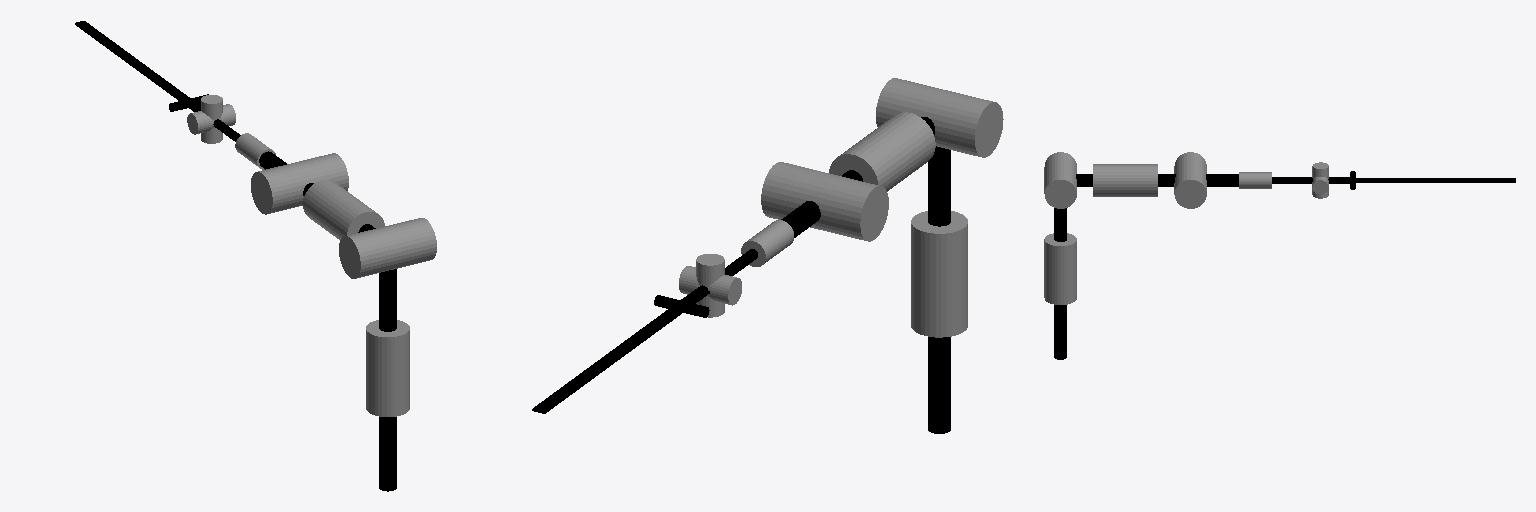
The robot description file, URDF, robot "FruitNinja":
<?xml version="1.0"?>

<robot name="FruitNinja">
  
  <!-- *************************************************** -->
  <!-- ******************** Kinematics ******************* -->
  <!-- *************************************************** -->

  <link name="world"/>

  <joint name="theta1" type="continuous">
    <parent link="world"/>
    <child  link="link1"/>
    <origin xyz="0 0 0.6" rpy="0 0 0"/>
    <axis   xyz="0 0 1"/>
    <dynamics damping="0.5"/>
  </joint>

  <link name="link1"/>

  <joint name="theta2" type="continuous">
    <parent link="link1"/>
    <child  link="link2"/>
    <origin xyz="0 0 0" rpy="0 0 0"/>
    <axis   xyz="1 0 0"/>
    <dynamics damping="1.0"/>
  </joint>

  <link name="link2"/>

  <joint name="attach-shoulder" type="fixed">
    <parent link="link2"/>
    <child  link="shoulder"/>
  </joint>

  <link name="shoulder"/>

  <joint name="theta3" type="continuous">
    <parent link="link2"/>
    <child  link="link3"/>
    <origin xyz="0 0.4 0" rpy="0 0 0"/>
    <axis   xyz="0 1 0 "/>
    <dynamics damping="0.05"/>
  </joint>

  <link name="link3"/>

  <joint name="theta4" type="continuous">
    <parent link="link3"/>
    <child  link="link4"/>
    <origin xyz="0 0 0" rpy="0 0 0"/>
    <axis   xyz="1 0 0 "/>
    <dynamics damping="0.1"/>
  </joint>

  <link name="link4"/>

  <joint name="attach-elbow" type="fixed">
    <parent link="link4"/>
    <child  link="elbow"/>
  </joint>

  <link name="elbow"/>

  <joint name="theta5" type="continuous">
    <parent link="link4"/>
    <child  link="link5"/>
    <origin xyz="0 0.4 0" rpy="0 0 0"/>
    <axis   xyz="0 1 0"/>
    <dynamics damping="0.02"/>
  </joint>

  <link name="link5"/>

  <joint name="theta6" type="continuous">
    <parent link="link5"/>
    <child  link="link6"/>
    <origin xyz="0 0 0" rpy="0 0 0"/>
    <axis   xyz="0 0 1"/>
    <dynamics damping="0.02"/>
  </joint>

  <link name="link6"/>

  <joint name="theta7" type="continuous">
    <parent link="link6"/>
    <child  link="link7"/>
    <origin xyz="0 0 0" rpy="0 0 0"/>
    <axis   xyz="1 0 0"/>
    <dynamics damping="0.02"/>
  </joint>

  <link name="link7"/>

  <joint name="attach-wrist" type="fixed">
    <parent link="link7"/>
    <child  link="wrist"/>
  </joint>

  <link name="wrist"/>

  <joint name="final" type="fixed">
    <parent link="link7"/>
    <child  link="tip"/>
    <origin xyz="0 0.3 0" rpy="0 0 0"/>
  </joint>

  <link name="tip"/>


  <!-- *************************************************** -->
  <!-- ******************* RVIZ Colors ******************* -->
  <!-- *************************************************** -->

  <material name="white">    <color rgba="1.00 1.00 1.00 1"/>  </material>
  <material name="gray">     <color rgba="0.60 0.60 0.60 1"/>  </material>
  <material name="table">    <color rgba="0.85 0.77 0.77 1"/>  </material>
  <material name="black">    <color rgba="0.00 0.00 0.00 1"/>  </material>

  <material name="red">      <color rgba="1.00 0.00 0.00 1"/>  </material>
  <material name="green">    <color rgba="0.00 1.00 0.00 1"/>  </material>
  <material name="blue">     <color rgba="0.00 0.00 1.00 1"/>  </material>

  <material name="cyan">     <color rgba="0.00 1.00 1.00 1"/>  </material>
  <material name="magenta">  <color rgba="1.00 0.00 1.00 1"/>  </material>
  <material name="yellow">   <color rgba="1.00 1.00 0.00 1"/>  </material>

  <material name="orange">   <color rgba="1.00 0.65 0.00 1"/>  </material>


  <!-- *************************************************** -->
  <!-- ****** Building Blocks (Visual AND Inertial) ****** -->
  <!-- *************************************************** -->

  <!-- *** World-Fixed: Mount 1, Motor 1 *** -->

  <joint name="attach-mount1" type="fixed">
    <parent link="world"/>
    <child  link="mount1"/>
  </joint>
  <link name="mount1">
    <visual>
      <origin xyz="0 0 0.1" rpy="0 0 0"/>
      <geometry>
	<cylinder length="0.2" radius="0.02"/>
      </geometry>
      <material name="black"/>
    </visual>
    <inertial>
      <origin xyz="0 0 0.1" rpy="0 0 0"/>
      <mass value="0.2"/>
      <inertia
        ixx="0.000687" ixy="0.0" ixz="0.0"
        iyy="0.000687" iyz="0.0"
        izz="0.000040"/>
    </inertial>
  </link>

  <joint name="attach-motor1" type="fixed">
    <parent link="world"/>
    <child  link="motor1"/>
  </joint>
  <link name="motor1">
    <visual>
      <origin xyz="0 0 0.3" rpy="0 0 0"/>
      <geometry>
	<cylinder length="0.2" radius="0.05"/>
      </geometry>
      <material name="gray"/>
    </visual>
    <inertial>
      <origin xyz="0 0 0.3" rpy="0 0 0"/>
      <mass value="2.0"/>
      <inertia
        ixx="0.007917" ixy="0.0" ixz="0.0"
        iyy="0.007917" iyz="0.0"
        izz="0.002500"/>
    </inertial>
  </link>

  <!-- *** Motor 1 Output: Mount 2, Motor 2 *** -->

  <joint name="attach-mount2" type="fixed">
    <parent link="link1"/>
    <child  link="mount2"/>
  </joint>
  <link name="mount2">
    <visual>
      <origin xyz="0 0 -0.1" rpy="0 0 0"/>
      <geometry>
	<cylinder length="0.2" radius="0.02"/>
      </geometry>
      <material name="black"/>
    </visual>
    <inertial>
      <origin xyz="0 0 -0.1" rpy="0 0 0"/>
      <mass value="0.2"/>
      <inertia
        ixx="0.000687" ixy="0.0" ixz="0.0"
        iyy="0.000687" iyz="0.0"
        izz="0.000040"/>
    </inertial>
  </link>

  <joint name="attach-motor2" type="fixed">
    <parent link="link1"/>
    <child  link="motor2"/>
  </joint>
  <link name="motor2">
    <visual>
      <origin xyz="0 0 0" rpy="0 1.5708 0"/>
      <geometry>
	<cylinder length="0.2" radius="0.05"/>
      </geometry>
      <material name="gray"/>
    </visual>
    <inertial>
      <origin xyz="0 0 0" rpy="0 1.5708 0"/>
      <mass value="2.0"/>
      <inertia
        ixx="0.007917" ixy="0.0" ixz="0.0"
        iyy="0.007917" iyz="0.0"
        izz="0.002500"/>
    </inertial>
  </link>

  <!-- *** Motor 2 Output: Mount 3, Motor 3 *** -->

  <joint name="attach-mount3" type="fixed">
    <parent link="link2"/>
    <child  link="mount3"/>
  </joint>
  <link name="mount3">
    <visual>
      <origin xyz="0 0.1 0" rpy="1.5708 0 0"/>
      <geometry>
	<cylinder length="0.2" radius="0.02"/>
      </geometry>
      <material name="black"/>
    </visual>
    <inertial>
      <origin xyz="0 0.1 0" rpy="1.5708 0 0"/>
      <mass value="0.2"/>
      <inertia
        ixx="0.000687" ixy="0.0" ixz="0.0"
        iyy="0.000687" iyz="0.0"
        izz="0.000040"/>
    </inertial>
  </link>

  <joint name="attach-motor3" type="fixed">
    <parent link="link2"/>
    <child  link="motor3"/>
  </joint>
  <link name="motor3">
    <visual>
      <origin xyz="0 0.2 0" rpy="1.5708 0 0"/>
      <geometry>
	<cylinder length="0.2" radius="0.05"/>
      </geometry>
      <material name="gray"/>
    </visual>
    <inertial>
      <origin xyz="0 0.2 0" rpy="1.5708 0 0"/>
      <mass value="2.0"/>
      <inertia
        ixx="0.007917" ixy="0.0" ixz="0.0"
        iyy="0.007917" iyz="0.0"
        izz="0.002500"/>
    </inertial>
  </link>

  <!-- *** Motor 3 Output: Mount 4, Motor 4 *** -->

  <joint name="attach-mount4" type="fixed">
    <parent link="link3"/>
    <child  link="mount4"/>
  </joint>
  <link name="mount4">
    <visual>
      <origin xyz="0 -0.1 0" rpy="1.5708 0 0"/>
      <geometry>
	<cylinder length="0.2" radius="0.02"/>
      </geometry>
      <material name="black"/>
    </visual>
    <inertial>
      <origin xyz="0 -0.1 0" rpy="1.5708 0 0"/>
      <mass value="0.2"/>
      <inertia
        ixx="0.000687" ixy="0.0" ixz="0.0"
        iyy="0.000687" iyz="0.0"
        izz="0.000040"/>
    </inertial>
  </link>

  <joint name="attach-motor4" type="fixed">
    <parent link="link3"/>
    <child  link="motor4"/>
  </joint>
  <link name="motor4">
    <visual>
      <origin xyz="0 0 0" rpy="0 1.5708 0"/>
      <geometry>
	<cylinder length="0.2" radius="0.05"/>
      </geometry>
      <material name="gray"/>
    </visual>
    <inertial>
      <origin xyz="0 0 0" rpy="0 1.5708 0"/>
      <mass value="2.0"/>
      <inertia
        ixx="0.007917" ixy="0.0" ixz="0.0"
        iyy="0.007917" iyz="0.0"
        izz="0.002500"/>
    </inertial>
  </link>

  <!-- *** Motor 4 Output: Mount 5, Motor 5 *** -->

  <joint name="attach-mount5" type="fixed">
    <parent link="link4"/>
    <child  link="mount5"/>
  </joint>
  <link name="mount5">
    <visual>
      <origin xyz="0 0.1 0" rpy="1.5708 0 0"/>
      <geometry>
	<cylinder length="0.2" radius="0.02"/>
      </geometry>
      <material name="black"/>
    </visual>
    <inertial>
      <origin xyz="0 0.1 0" rpy="1.5708 0 0"/>
      <mass value="0.2"/>
      <inertia
        ixx="0.000687" ixy="0.0" ixz="0.0"
        iyy="0.000687" iyz="0.0"
        izz="0.000040"/>
    </inertial>
  </link>

  <joint name="attach-motor5" type="fixed">
    <parent link="link4"/>
    <child  link="motor5"/>
  </joint>
  <link name="motor5">
    <visual>
      <origin xyz="0 0.2 0" rpy="1.5708 0 0"/>
      <geometry>
	<cylinder length="0.1" radius="0.025"/>
      </geometry>
      <material name="gray"/>
    </visual>
    <inertial>
      <origin xyz="0 0.2 0" rpy="1.5708 0 0"/>
      <mass value="1.0"/>
      <inertia
        ixx="0.000990" ixy="0.0" ixz="0.0"
        iyy="0.000990" iyz="0.0"
        izz="0.000313"/>
    </inertial>
  </link>

  <!-- *** Motor 5 Output: Mount 6, Motor 6 *** -->

  <joint name="attach-mount6" type="fixed">
    <parent link="link5"/>
    <child  link="mount6"/>
  </joint>
  <link name="mount6">
    <visual>
      <origin xyz="0 -0.1 0" rpy="1.5708 0 0"/>
      <geometry>
	<cylinder length="0.2" radius="0.01"/>
      </geometry>
      <material name="black"/>
    </visual>
    <inertial>
      <origin xyz="0 -0.1 0" rpy="1.5708 0 0"/>
      <mass value="0.1"/>
      <inertia
        ixx="0.000336" ixy="0.0" ixz="0.0"
        iyy="0.000336" iyz="0.0"
        izz="0.000005"/>
    </inertial>
  </link>

  <joint name="attach-motor6" type="fixed">
    <parent link="link5"/>
    <child  link="motor6"/>
  </joint>
  <link name="motor6">
    <visual>
      <origin xyz="0 0 0" rpy="0 0 0"/>
      <geometry>
	<cylinder length="0.1" radius="0.025"/>
      </geometry>
      <material name="gray"/>
    </visual>
    <inertial>
      <origin xyz="0 0 0" rpy="0 0 0"/>
      <mass value="1.0"/>
      <inertia
        ixx="0.000990" ixy="0.0" ixz="0.0"
        iyy="0.000990" iyz="0.0"
        izz="0.000313"/>
    </inertial>
  </link>

  <!-- *** Motor 6 Output: Motor 7 *** -->

  <joint name="attach-motor7" type="fixed">
    <parent link="link6"/>
    <child  link="motor7"/>
  </joint>
  <link name="motor7">
    <visual>
      <origin xyz="0 0 0" rpy="0 1.5708 0"/>
      <geometry>
	<cylinder length="0.1" radius="0.025"/>
      </geometry>
      <material name="gray"/>
    </visual>
    <inertial>
      <origin xyz="0 0 0" rpy="0 1.5708 0"/>
      <mass value="1.0"/>
      <inertia
        ixx="0.000990" ixy="0.0" ixz="0.0"
        iyy="0.000990" iyz="0.0"
        izz="0.000313"/>
    </inertial>
  </link>

  <!-- *** Motor 7 Output: Base, Palm, Fingers *** -->

  <joint name="attach-handbase" type="fixed">
    <parent link="link7"/>
    <child  link="handbase"/>
  </joint>
  <link name="handbase">
    <visual>
      <origin xyz="0 0.05 0" rpy="1.5708 0 0"/>
      <geometry>
	<cylinder length="0.1" radius="0.01"/>
      </geometry>
      <material name="black"/>
    </visual>
    <inertial>
      <origin xyz="0 0.05 0" rpy="1.5708 0 0"/>
      <mass value="0.05"/>
      <inertia
        ixx="0.000043" ixy="0.0" ixz="0.0"
        iyy="0.000043" iyz="0.0"
        izz="0.000003"/>
    </inertial>
  </link>

  <joint name="attach-palm" type="fixed">
    <parent link="link7"/>
    <child  link="palm"/>
  </joint>
  <link name="palm">
    <visual>
      <origin xyz="0 0.1 0" rpy="0 1.5708 0"/>
      <geometry>
	<cylinder length="0.1" radius="0.01"/>
      </geometry>
      <material name="black"/>
    </visual>
    <inertial>
      <origin xyz="0 0.1 0" rpy="0 1.5708 0"/>
      <mass value="0.05"/>
      <inertia
        ixx="0.000043" ixy="0.0" ixz="0.0"
        iyy="0.000043" iyz="0.0"
        izz="0.000003"/>
    </inertial>
  </link>

  <joint name="attach-katana" type="fixed">
    <parent link="link7"/>
    <child  link="katana"/>
  </joint>
  <link name="katana">
    <visual>
      <origin xyz="0 0.3 0" rpy="0 0 0"/>
      <geometry>
	<box size="0.025 0.6 0.005" />
      </geometry>
      <material name="black"/>
    </visual>
    <inertial>
      <origin xyz="0 0.3 0" rpy="0 0 0"/>
      <mass value="1.00"/>
      <inertia
        ixx="0.00005417" ixy="0.03" ixz="0.03005"
        iyy="0.00005417" iyz="0.03"
        izz="0.00005417"/>
    </inertial>
  </link>




  <!-- *************************************************** -->
  <!-- ******************* Gazebo Colors ***************** -->
  <!-- *************************************************** -->

  <gazebo reference="motor1"> <material>Gazebo/Gray</material>  </gazebo>
  <gazebo reference="motor2"> <material>Gazebo/Gray</material>  </gazebo>
  <gazebo reference="motor3"> <material>Gazebo/Gray</material>  </gazebo>
  <gazebo reference="motor4"> <material>Gazebo/Gray</material>  </gazebo>
  <gazebo reference="motor5"> <material>Gazebo/Gray</material>  </gazebo>
  <gazebo reference="motor6"> <material>Gazebo/Gray</material>  </gazebo>
  <gazebo reference="motor7"> <material>Gazebo/Gray</material>  </gazebo>

  <gazebo reference="mount1">   <material>Gazebo/Black</material> </gazebo>
  <gazebo reference="mount2">   <material>Gazebo/Black</material> </gazebo>
  <gazebo reference="mount3">   <material>Gazebo/Black</material> </gazebo>
  <gazebo reference="mount4">   <material>Gazebo/Black</material> </gazebo>
  <gazebo reference="mount5">   <material>Gazebo/Black</material> </gazebo>
  <gazebo reference="mount6">   <material>Gazebo/Black</material> </gazebo>

  <gazebo reference="handbase">    <material>Gazebo/Black</material> </gazebo>
  <gazebo reference="palm">        <material>Gazebo/Black</material> </gazebo>
  <gazebo reference="leftfinger">  <material>Gazebo/Black</material> </gazebo>
  <gazebo reference="rightfinger"> <material>Gazebo/Black</material> </gazebo>

  <gazebo reference="cube-up">    <material>Gazebo/Green</material>  </gazebo>
  <gazebo reference="cube-down">  <material>Gazebo/Yellow</material> </gazebo>
  <gazebo reference="cube-left">  <material>Gazebo/Red</material>    </gazebo>
  <gazebo reference="cube-right"> <material>Gazebo/Orange</material> </gazebo>
  <gazebo reference="cube-front"> <material>Gazebo/Blue</material>   </gazebo>
  <gazebo reference="cube-back">  <material>Gazebo/White</material>  </gazebo>

</robot>

--- What the picture shows (computed from the rendered views, not written in the file) ---
The picture shows the robot from 3 angles, left to right: view 1: azimuth 30°, elevation 25°; view 2: azimuth 150°, elevation 25°; view 3: azimuth 270°, elevation 25°; orthographic projection.
Robot: FruitNinja — 28 links, 27 joints (7 continuous, 20 fixed); root link world; default pose: every joint at zero.
Links seen in each view (by area): view 1: motor2, motor1, motor4, motor3, mount1, katana, mount2, motor6, motor7, motor5; view 2: motor1, motor4, motor2, motor3, mount1, katana, mount2, motor5, motor7, motor6, mount5, palm; view 3: motor1, motor3, motor2, motor4, katana, mount1, motor5.
Boxes of the visible links, box(x1,y1,x2,y2) form: motor2: box(339, 218, 436, 278); motor1: box(366, 320, 409, 416); motor4: box(251, 153, 348, 214); motor3: box(303, 179, 384, 239); mount1: box(379, 417, 396, 491); katana: box(75, 21, 200, 111); mount2: box(379, 269, 396, 331); motor6: box(201, 95, 222, 143); motor7: box(187, 104, 235, 134); motor5: box(235, 133, 275, 169); motor1: box(911, 211, 967, 337); motor4: box(761, 162, 888, 241); motor2: box(876, 78, 1003, 157); motor3: box(829, 112, 935, 191); mount1: box(928, 337, 950, 433); katana: box(532, 291, 709, 413); mount2: box(928, 146, 950, 226); motor5: box(741, 220, 793, 266); motor7: box(679, 266, 741, 305); motor6: box(696, 254, 724, 317); mount5: box(781, 201, 820, 237); palm: box(654, 295, 709, 317); motor1: box(1044, 233, 1076, 304); motor3: box(1093, 164, 1157, 196); motor2: box(1044, 152, 1076, 208); motor4: box(1174, 152, 1206, 208); katana: box(1329, 178, 1515, 182); mount1: box(1054, 305, 1066, 359); motor5: box(1239, 172, 1271, 188).
Bounding box of the posed robot: 0.2 × 1.45 × 0.65 m (x, y, z).
Geometry: primitives only (box / cylinder / sphere), no mesh files.